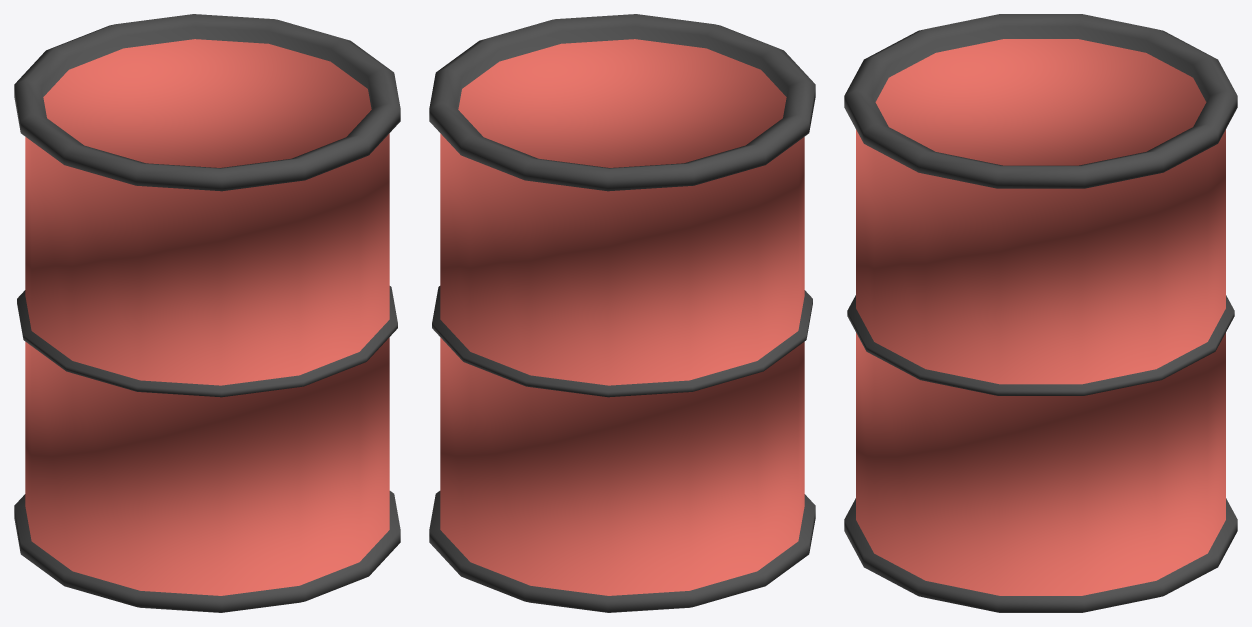
Rendered from barril.glb.
The picture shows the model from 3 angles, left to right: view 1: azimuth 30°, elevation 25°; view 2: azimuth 150°, elevation 25°; view 3: azimuth 270°, elevation 25°; orthographic projection.
Visible parts, largest first — view 1: barril; view 2: barril; view 3: barril.
Part boxes in pixels (left/top/right/bottom): barril: left=14, top=14, right=400, bottom=612; barril: left=429, top=14, right=815, bottom=612; barril: left=844, top=14, right=1237, bottom=612.
Size of the model in its own units: 1.64 by 2.11 by 1.68.
